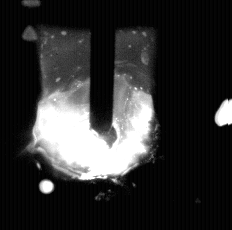arame: (91, 0, 118, 149)
poca: (32, 0, 152, 230)
